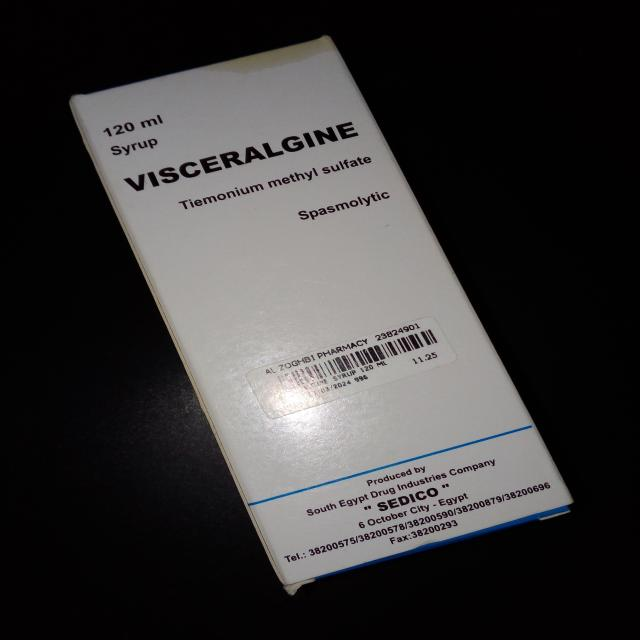Medicine: (75, 32, 584, 592)
